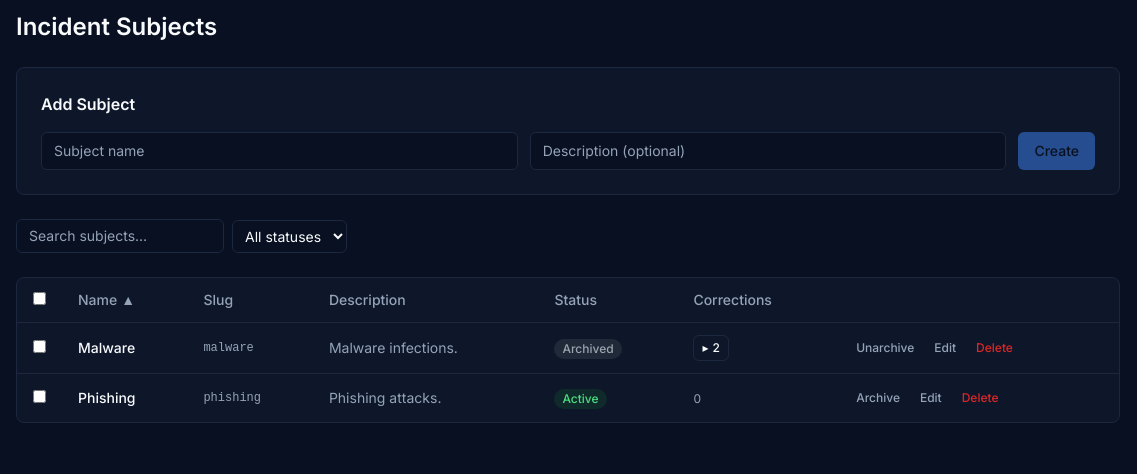
Test: SubjectsAdmin › shows an inline error when editing collides
Expected: the text "Phishing" is shown, x1=62 y1=374 x2=187 y2=422
Click the button with aria-label "Edit Phishing": [931, 398] box x1=912 y1=386 x2=950 y2=410
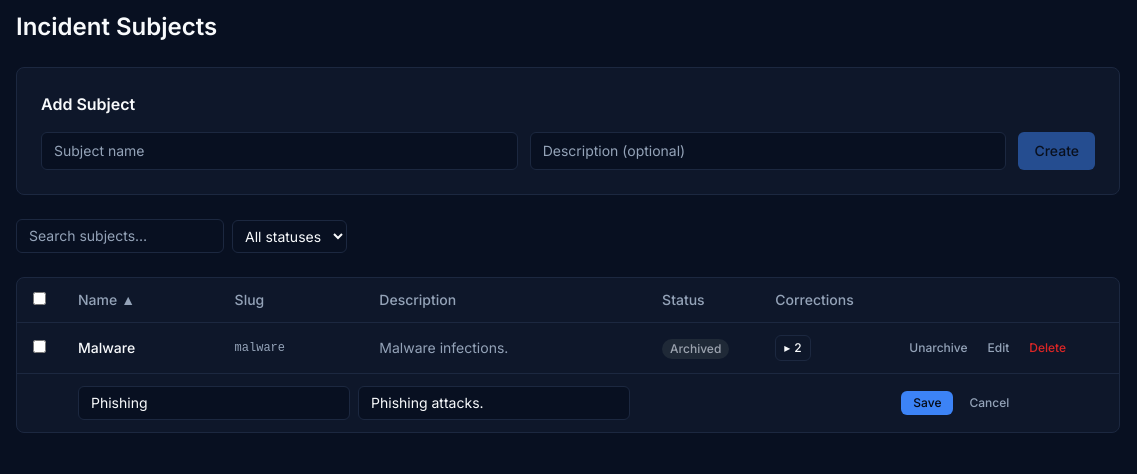
Replace the text in the field named "Edit name" with "Malware": [214, 403] box x1=78 y1=386 x2=350 y2=420
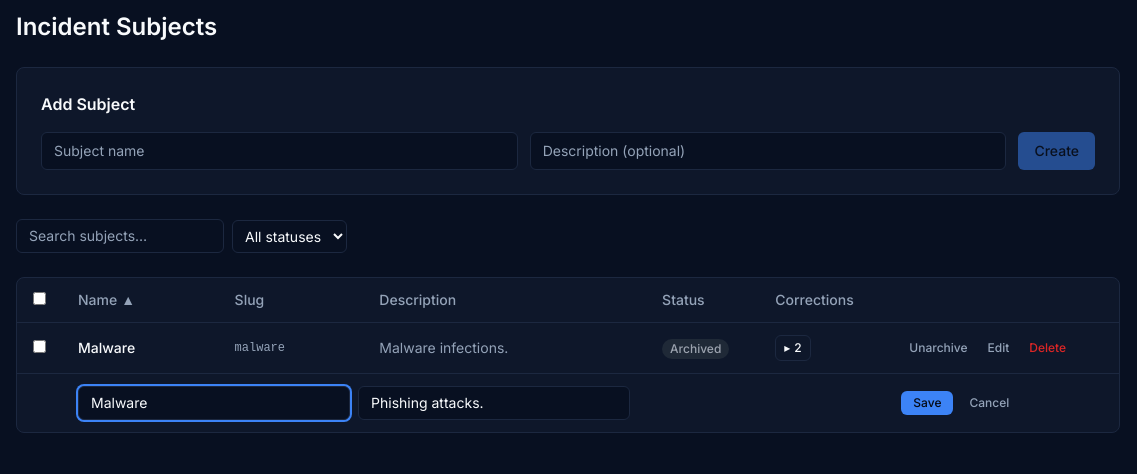
Click the button "Save": [927, 403] box x1=901 y1=391 x2=953 y2=415
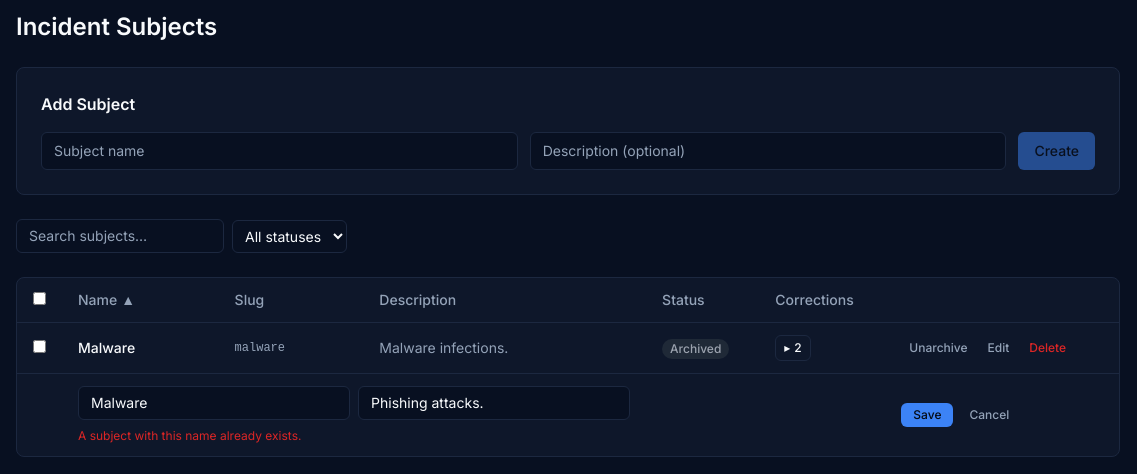
Now the text "A subject with this name already exists." is shown, box x1=78 y1=428 x2=301 y2=443
